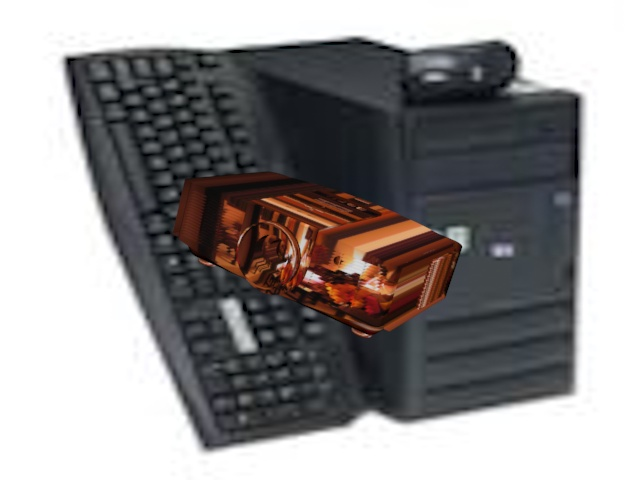projector: (160, 161, 465, 352)
